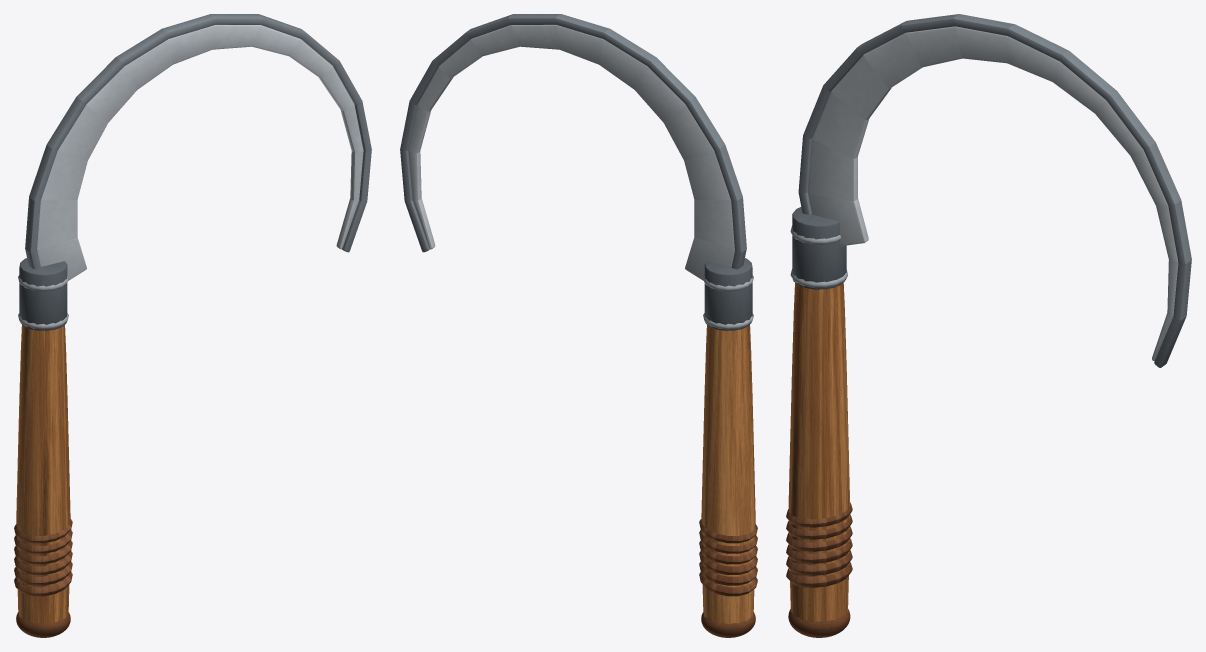
File: hoz.gltf
3 views of the same model, side by side, from view 1: azimuth 30°, elevation 25°; view 2: azimuth 150°, elevation 25°; view 3: azimuth 330°, elevation 25° (orthographic). The views are drawn at different scales.
Visible parts, largest first — view 1: hoz; view 2: hoz; view 3: hoz.
Boxes of the visible parts, <box> form: hoz: <box>14,14,371,637</box>; hoz: <box>400,14,757,637</box>; hoz: <box>786,14,1191,637</box>.
Bounding box in the file's own units: 0.3851 × 0.6049 × 0.0562.
Materials: 6 (6 with a texture image).
